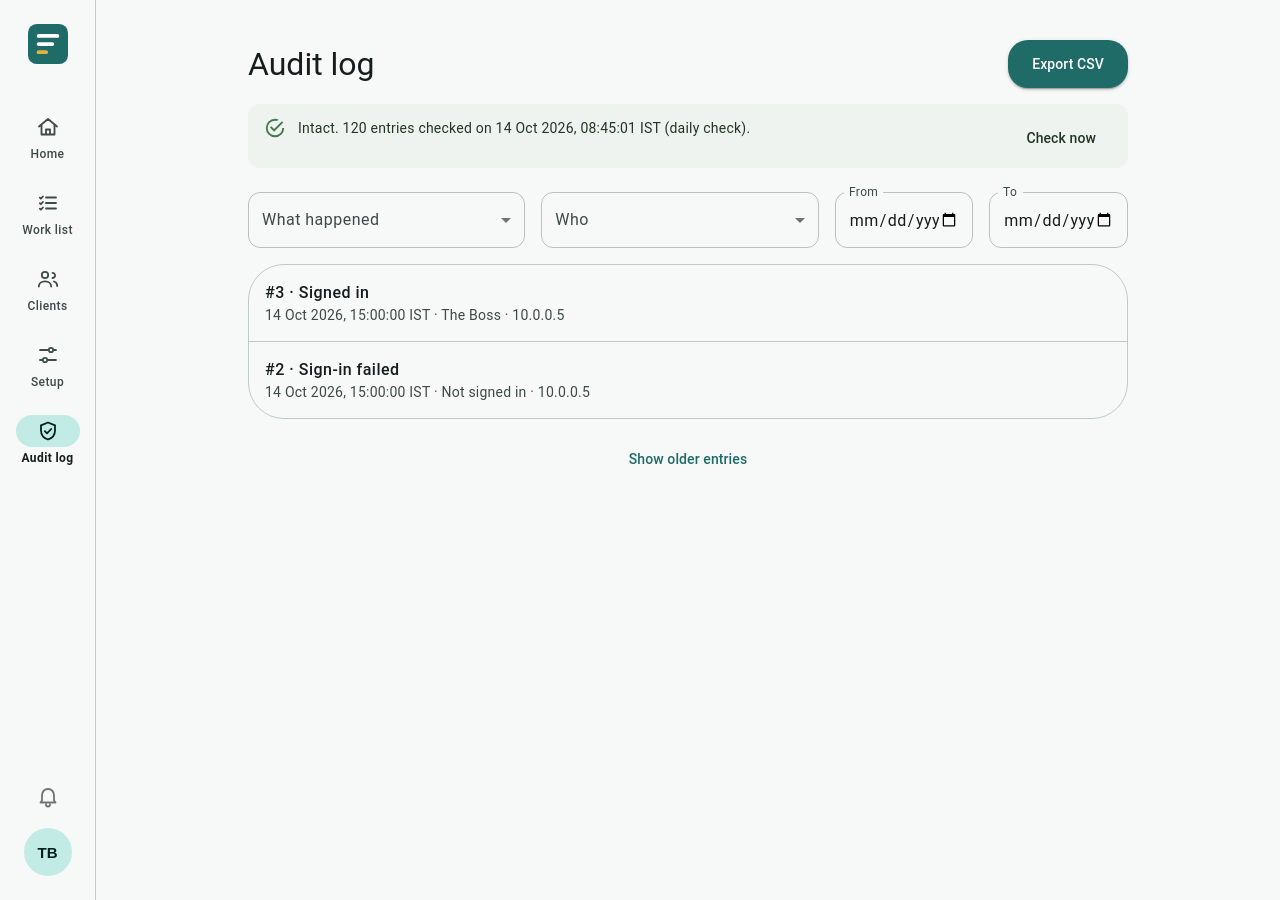
Test case: Audit log screen › filters by what happened and pages to older entries
Expected: the text "#3 · Signed in" is shown, [265,283,369,302]
Click the dropdown named "What happened" next to "What happened" at (387, 220), box [248,192,525,248]
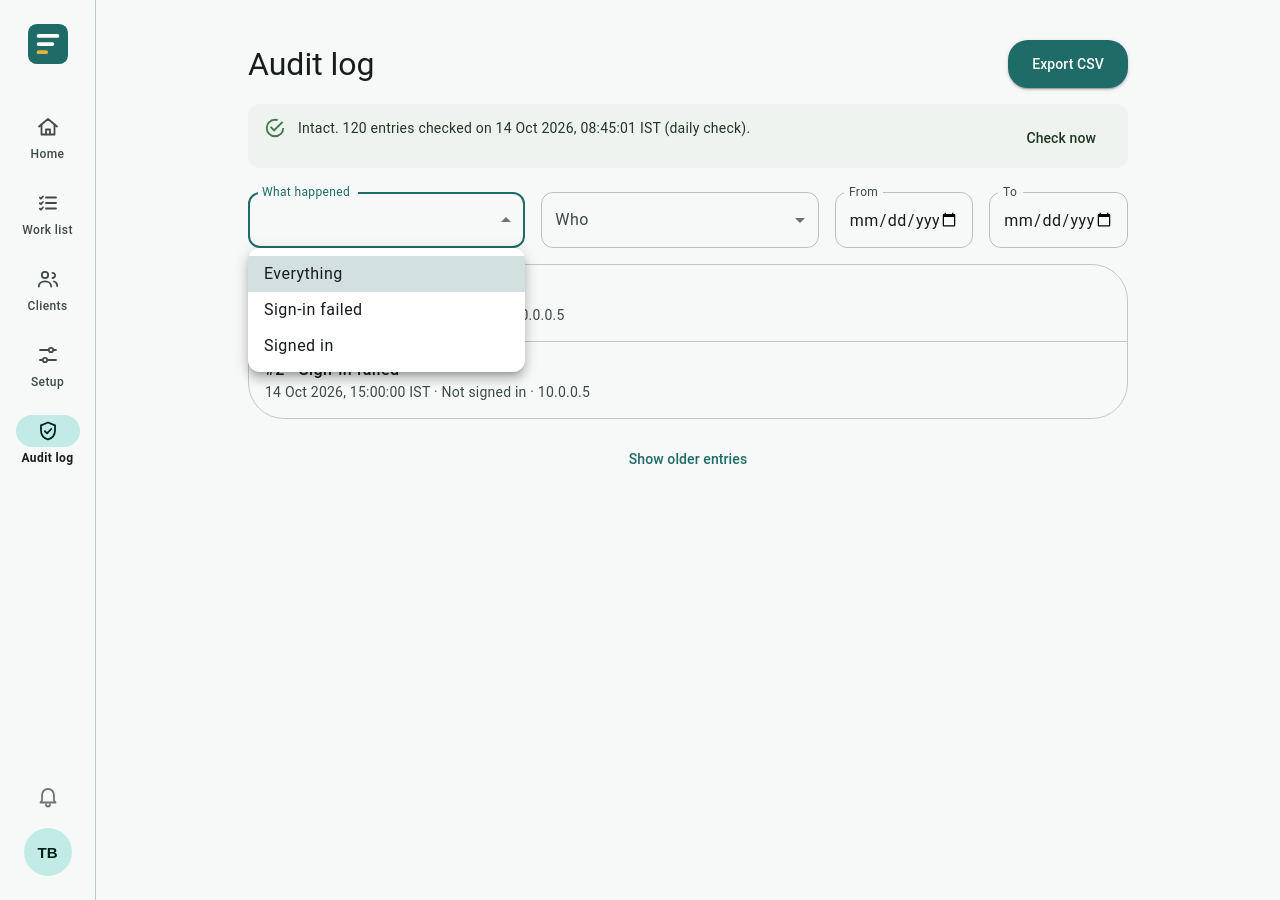
Click the option "Sign-in failed" at (313, 310), box [264,300,363,319]
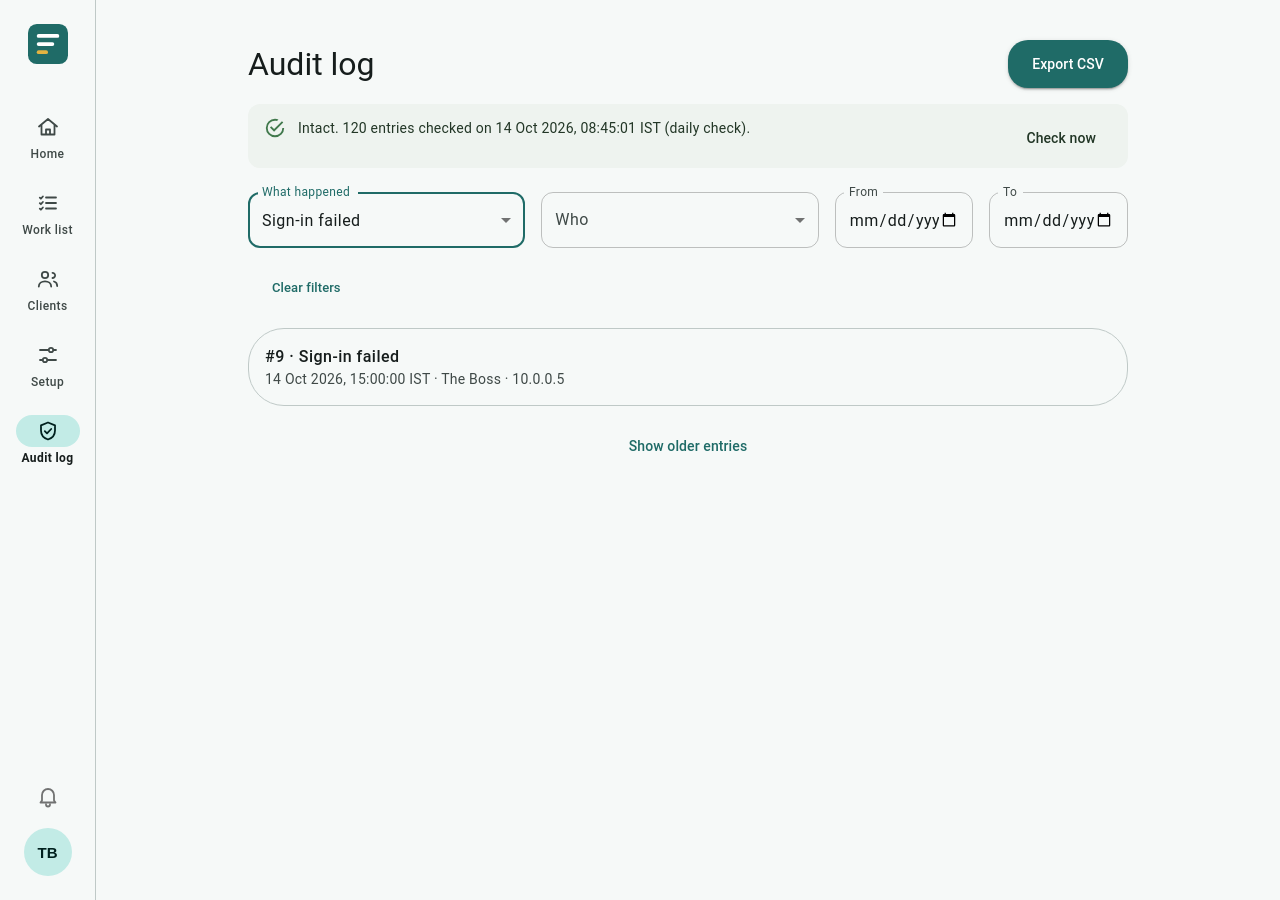
Now the text "#9 · Sign-in failed" is shown, box [265,347,400,366]
Now the text "#3 · Signed in" is gone
Click the button "Show older entries" at (688, 446), box [605,422,771,470]
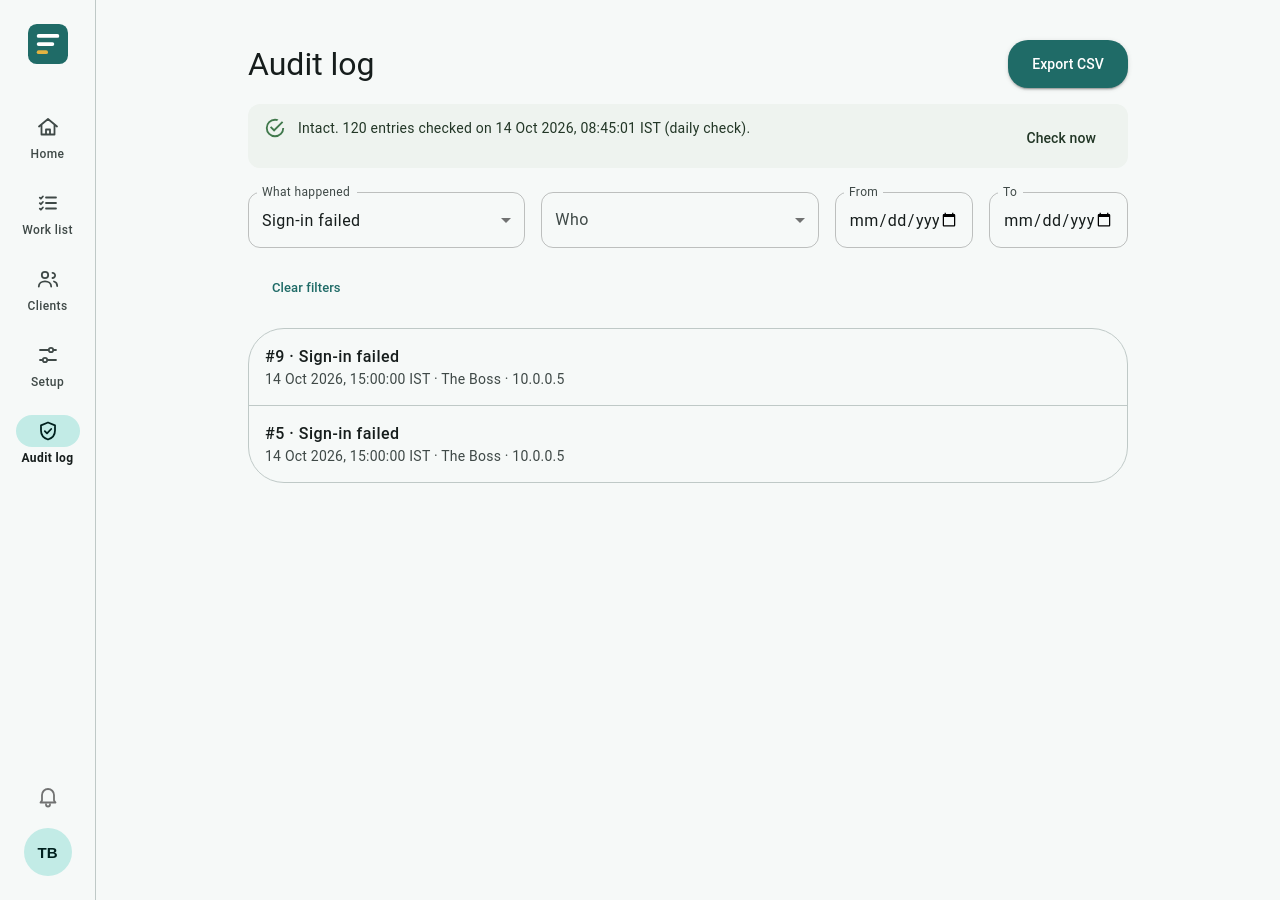
Now the text "#9 · Sign-in failed" is shown, box [265,347,400,366]
Now the text "#5 · Sign-in failed" is shown, box [265,424,400,443]
Now the button "Show older entries" is gone
